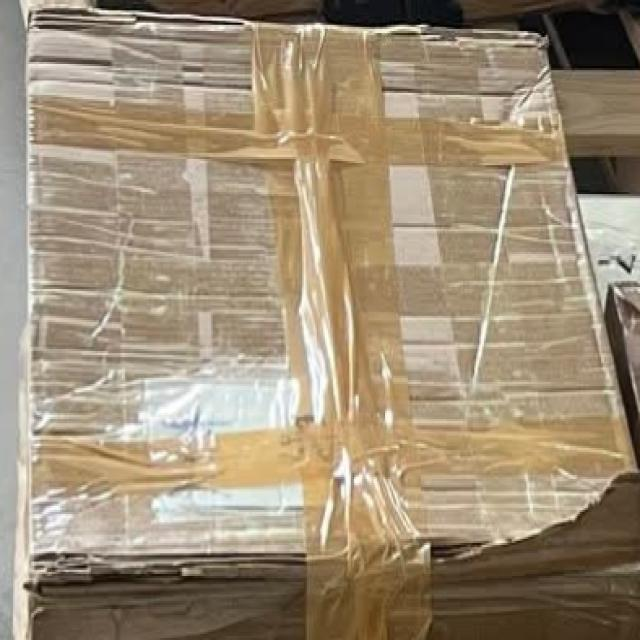carton_box: (9, 2, 640, 640)
package_damage: (4, 460, 635, 640), (368, 6, 562, 76), (18, 2, 254, 46)
